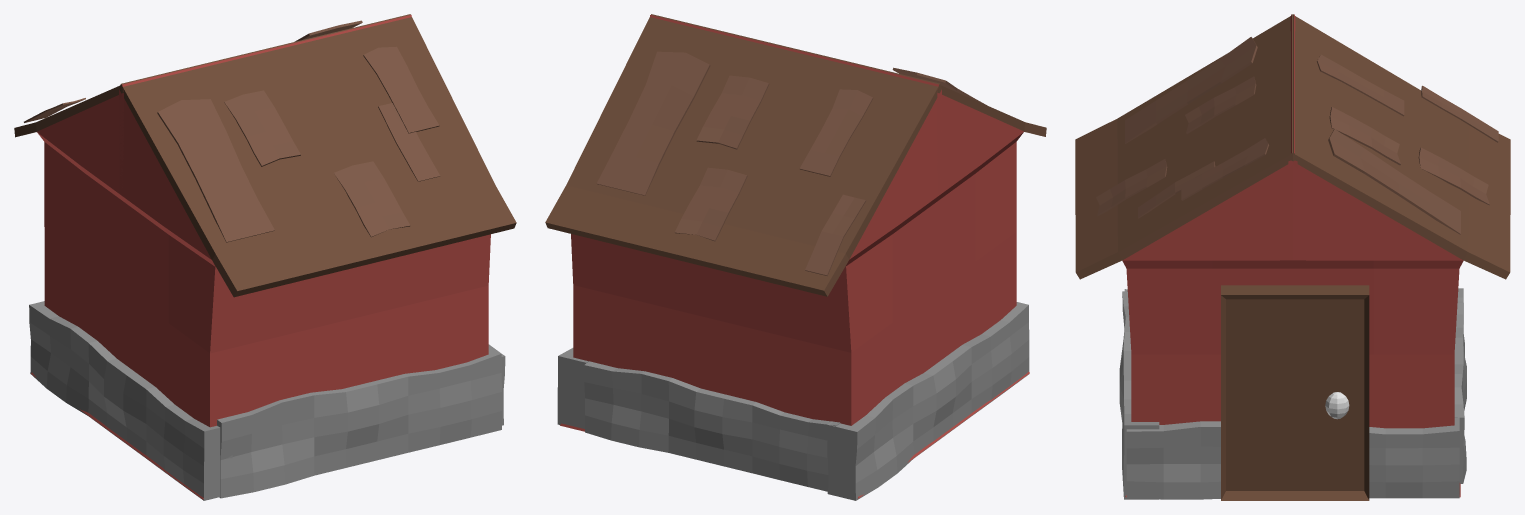
Rendered from genericHouse.glb.
The picture shows the model from 3 angles, left to right: view 1: azimuth 30°, elevation 25°; view 2: azimuth 150°, elevation 25°; view 3: azimuth 270°, elevation 25°; orthographic projection. The views are drawn at different scales.
Visible parts, largest first — view 1: Cube.006; view 2: Cube.006; view 3: Cube.006.
Boxes of the visible parts, x1,y1,x2,y2 form: Cube.006: [14, 14, 516, 500]; Cube.006: [545, 14, 1046, 500]; Cube.006: [1075, 14, 1510, 500].
Size of the model in its own units: 6.47 by 6.84 by 7.82.
